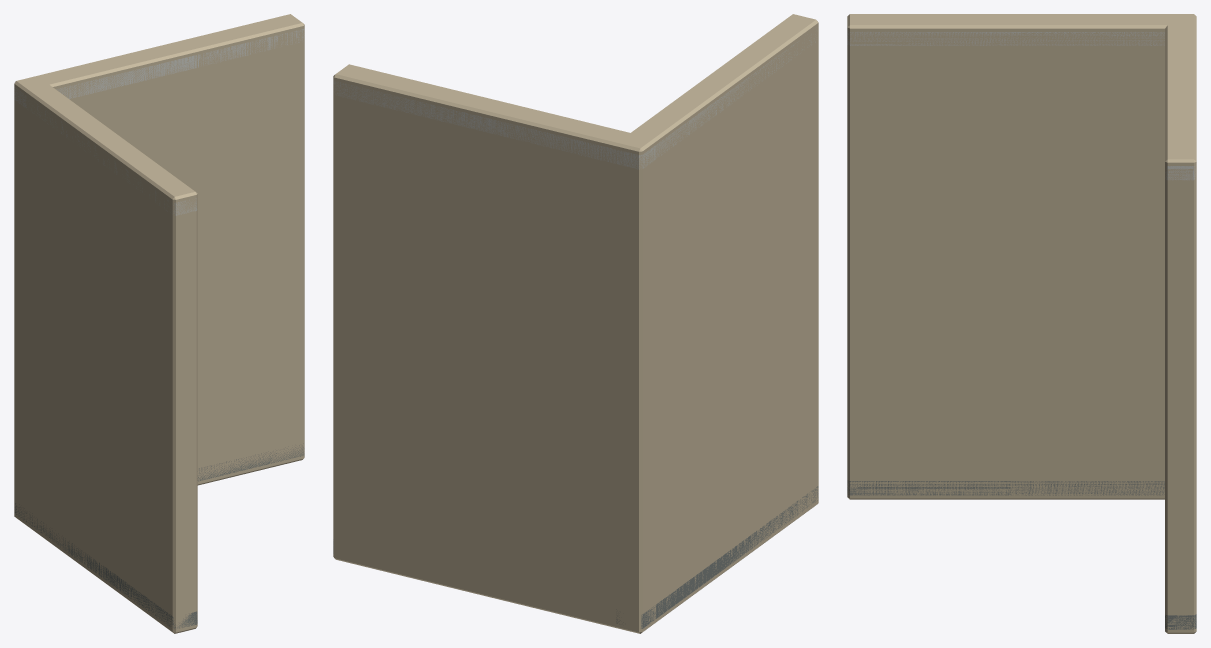
Rendered from architecture-corner-inner.lod0.glb.
3 renders of one model, left to right at view 1: azimuth 30°, elevation 25°; view 2: azimuth 150°, elevation 25°; view 3: azimuth 270°, elevation 25°, orthographic. The views are drawn at different scales.
Parts seen in each view (by area): view 1: architecture-corner-inner__body; view 2: architecture-corner-inner__body; view 3: architecture-corner-inner__body.
Boxes of the visible parts, x1,y1,x2,y2 form: architecture-corner-inner__body: (14,14,304,633); architecture-corner-inner__body: (333,14,818,633); architecture-corner-inner__body: (847,14,1196,633).
Size of the model in its own units: 2 by 3 by 2.
